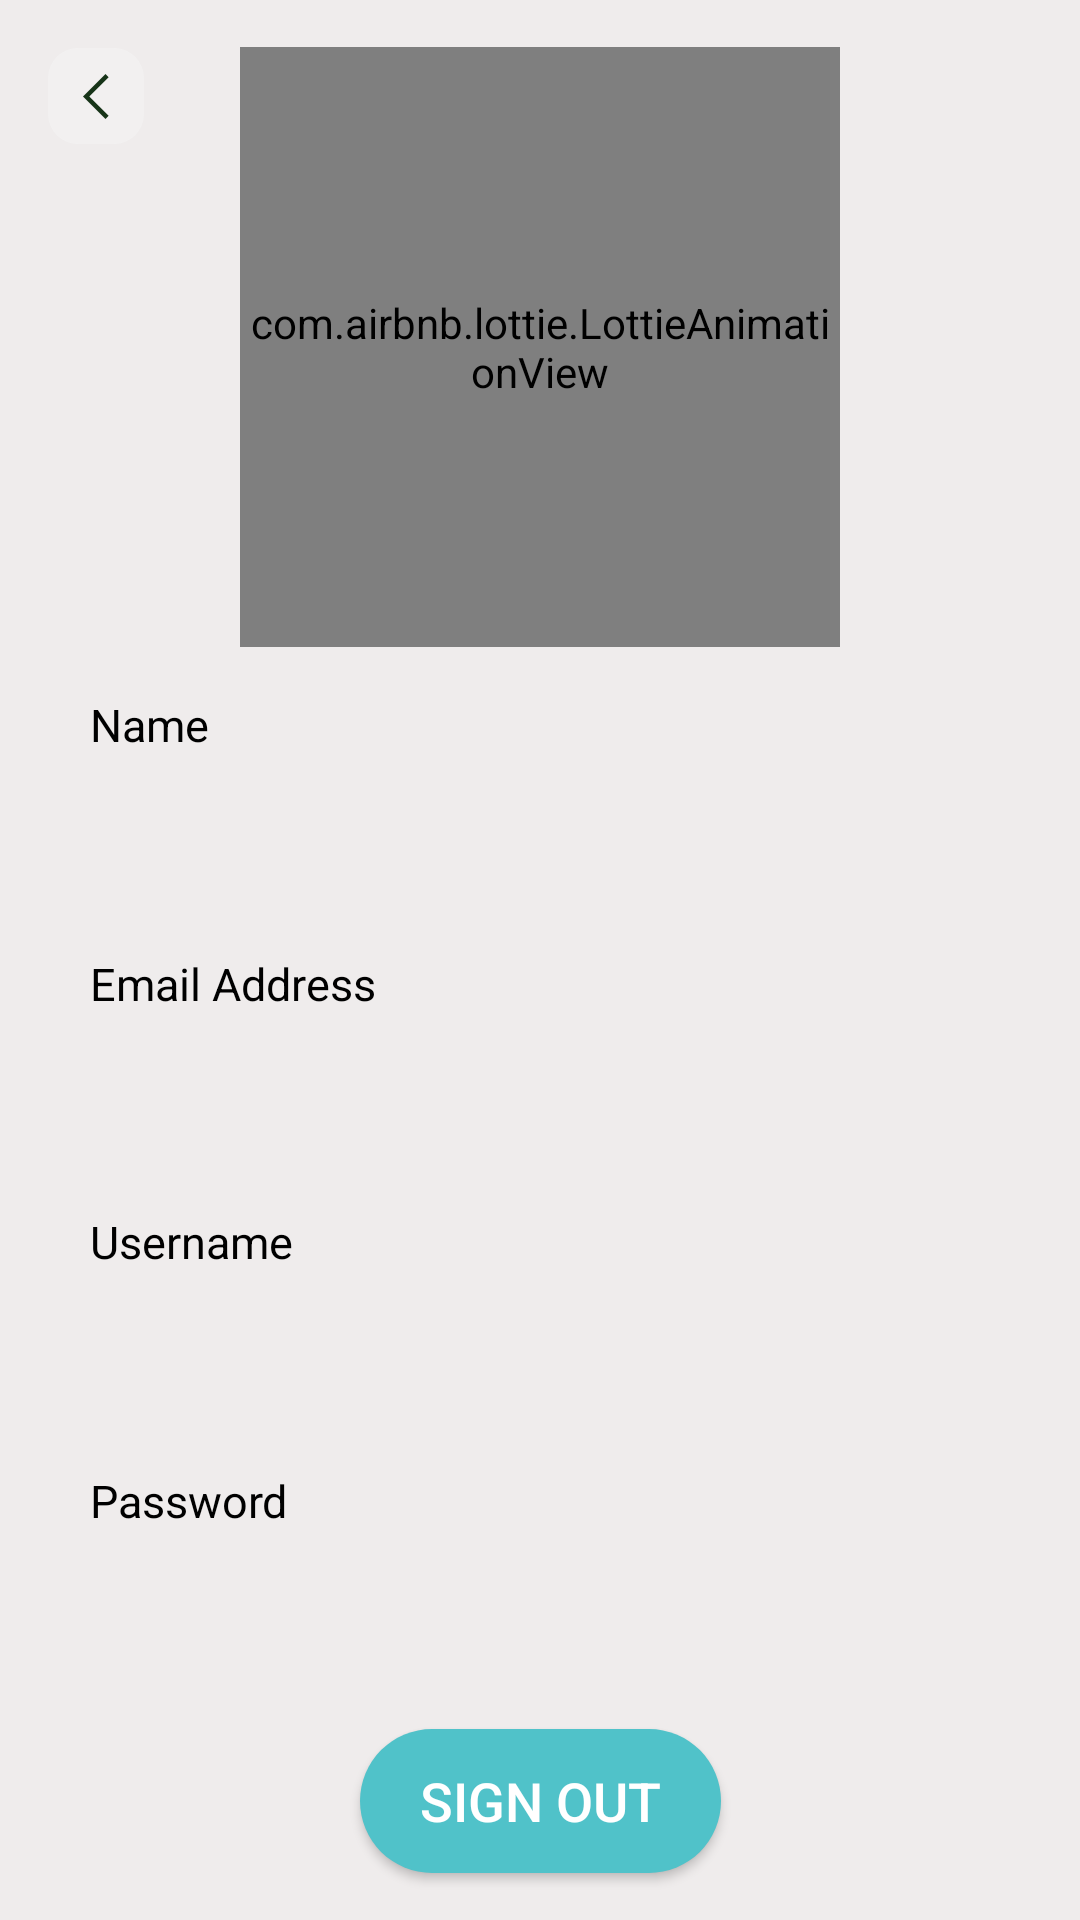

Icon bounding boxes for this 1080w x 1920h phone screenshot, format Rect(x1, y1, x2, y2):
back: Rect(83, 74, 109, 119)
